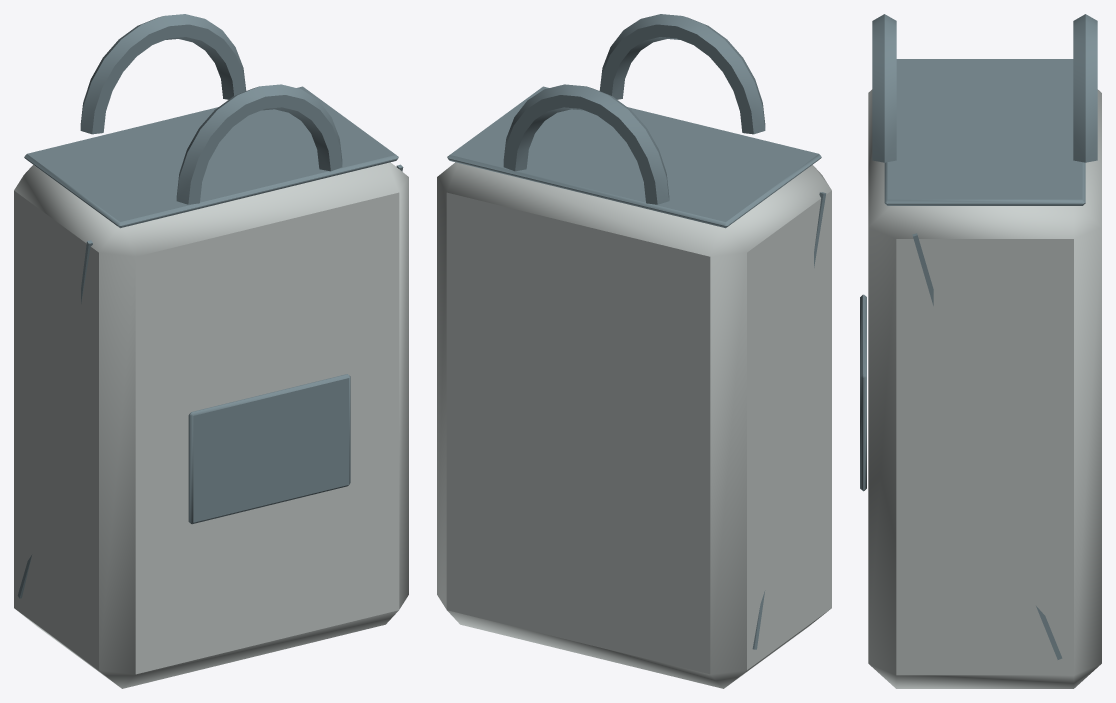
File: takeaway-bag.glb
The picture shows the model from 3 angles, left to right: view 1: azimuth 30°, elevation 25°; view 2: azimuth 150°, elevation 25°; view 3: azimuth 270°, elevation 25°; orthographic projection. The views are drawn at different scales.
Visible parts, largest first — view 1: folded_paper_body, bag_opening, blank_badge, paper_handle.001, paper_handle; view 2: folded_paper_body, bag_opening, paper_handle, paper_handle.001; view 3: folded_paper_body, bag_opening, paper_handle, paper_handle.001, blank_badge, gusset_fold.001.
Part boxes in pixels (left/top/right/bottom): folded_paper_body: left=14, top=162, right=408, bottom=688; bag_opening: left=24, top=86, right=398, bottom=228; blank_badge: left=188, top=374, right=350, bottom=524; paper_handle.001: left=176, top=84, right=342, bottom=204; paper_handle: left=80, top=14, right=246, bottom=134; folded_paper_body: left=437, top=162, right=831, bottom=688; bag_opening: left=447, top=86, right=821, bottom=228; paper_handle: left=503, top=84, right=669, bottom=204; paper_handle.001: left=599, top=14, right=765, bottom=134; folded_paper_body: left=868, top=89, right=1101, bottom=688; bag_opening: left=884, top=59, right=1085, bottom=205; paper_handle: left=1073, top=14, right=1097, bottom=162; paper_handle.001: left=872, top=14, right=896, bottom=162; blank_badge: left=860, top=294, right=866, bottom=491; gusset_fold.001: left=912, top=233, right=1062, bottom=659.
Size of the model in its own units: 0.1624 by 0.2834 by 0.1035.
